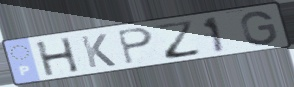1: (200, 15, 229, 53)
G: (240, 10, 280, 47)
H: (34, 36, 82, 78)
K: (78, 32, 118, 69)
P: (115, 26, 156, 66)
Z: (152, 18, 204, 61)
